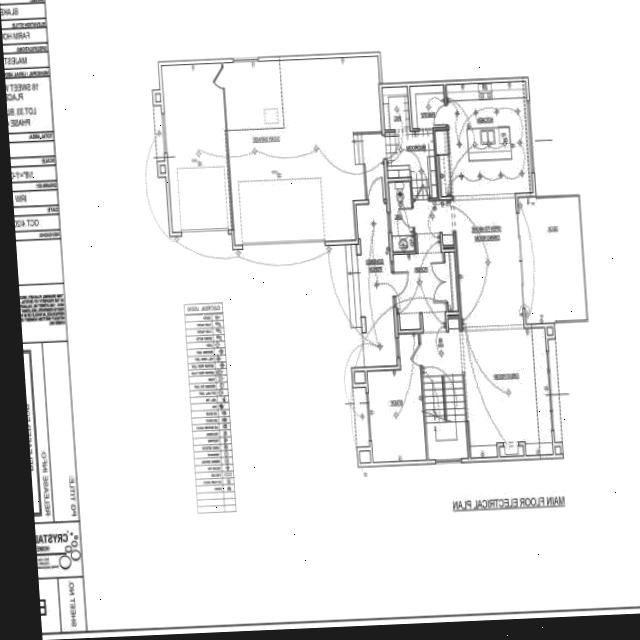room: (162, 62, 232, 233), (382, 84, 451, 201), (388, 181, 414, 252)
